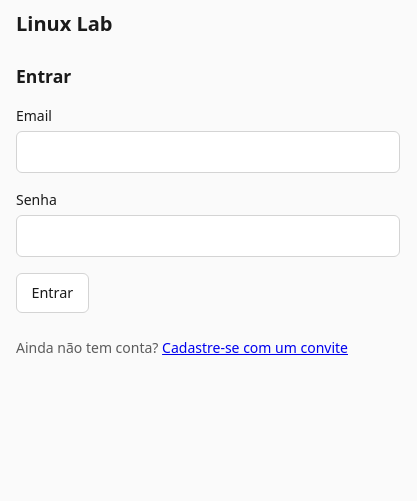
it: the session check on this tab › keeps the new user when an older session check answers after the login
The image size is (417, 501).
expect the heading "Entrar" is shown: met, box [16,64,71,88]
Type "bia@example.com" into the field labelled "Email".
click(208, 152); type("bia@example.com")  # box [16,131,400,173]
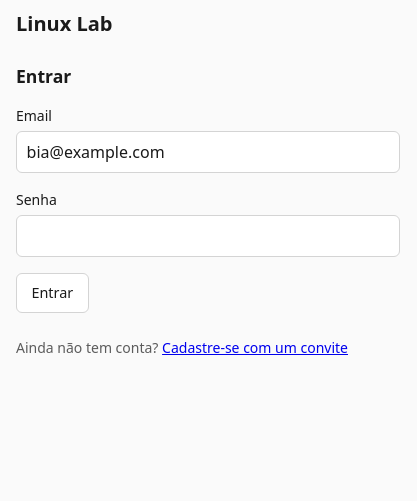
Type "synthetic password 01" into the password field labelled "Senha".
click(208, 236); type("synthetic password 01")  # box [16,215,400,257]
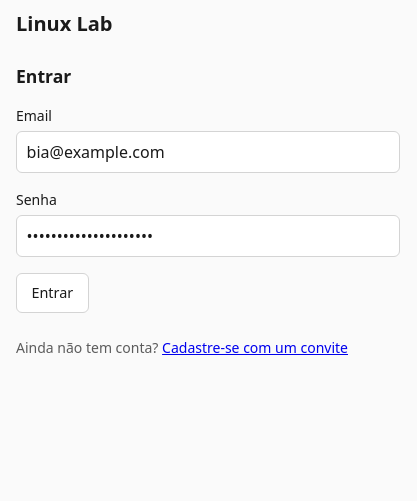
Click the button "Entrar".
click(52, 293)  # box [16,273,88,313]
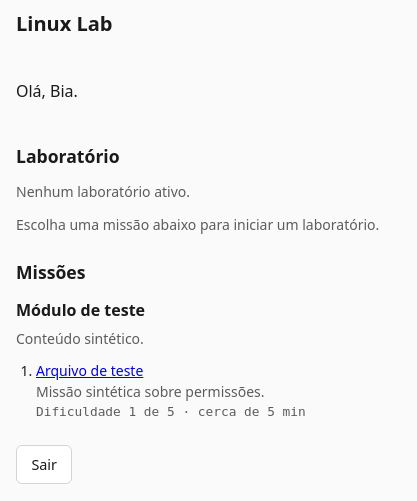
expect the link "Arquivo de teste" is shown: met, box [36,361,143,380]
expect the text "Olá, Bia." is shown: met, box [16,80,78,102]
